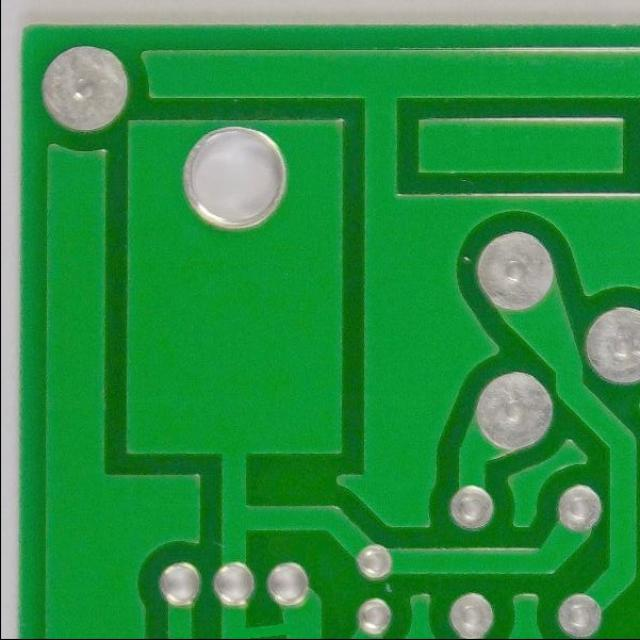Short_Circuit: (227, 611, 312, 640)
